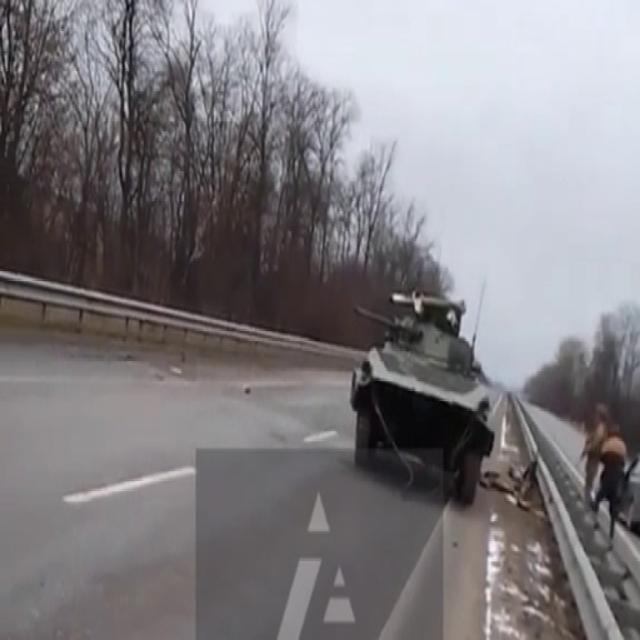APC-IFV: (348, 278, 492, 509)
